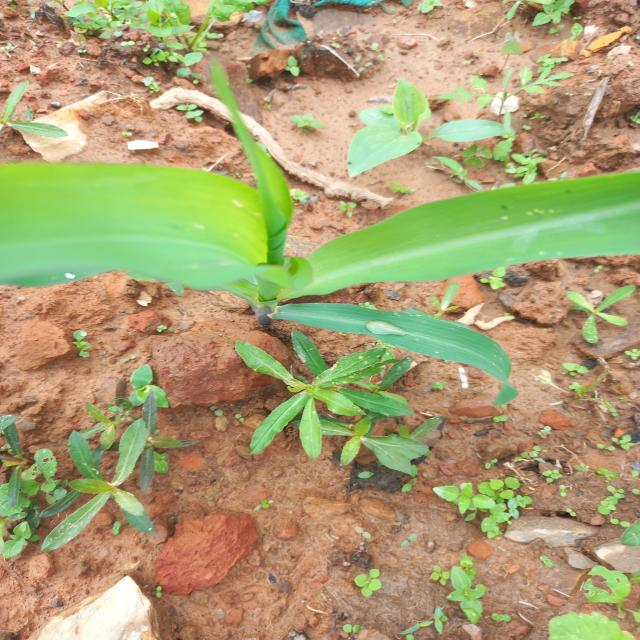maize: (0, 69, 640, 358)
weed: (227, 328, 429, 458), (337, 74, 525, 178), (52, 428, 180, 554), (67, 369, 205, 469), (52, 3, 267, 59), (3, 410, 65, 571), (421, 475, 538, 533), (561, 280, 640, 343), (0, 74, 67, 146), (570, 562, 639, 620), (424, 560, 488, 622), (502, 1, 596, 37), (424, 282, 481, 331), (556, 361, 599, 399), (592, 478, 636, 514), (172, 98, 218, 126), (349, 566, 388, 592), (592, 432, 640, 450), (330, 190, 360, 217), (414, 0, 453, 20), (134, 76, 166, 94), (520, 445, 547, 459), (542, 469, 567, 482), (118, 124, 136, 142)
